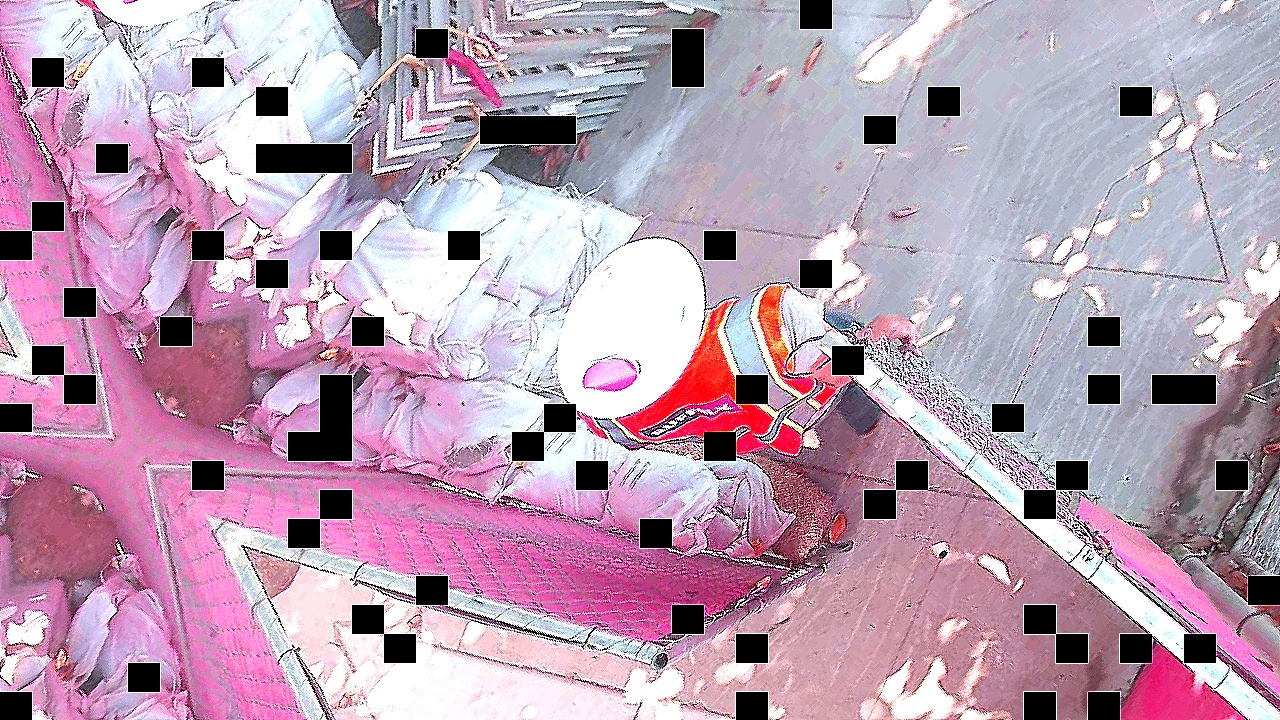person: (838, 1, 971, 152)
safetyvest: (832, 1, 917, 30)
